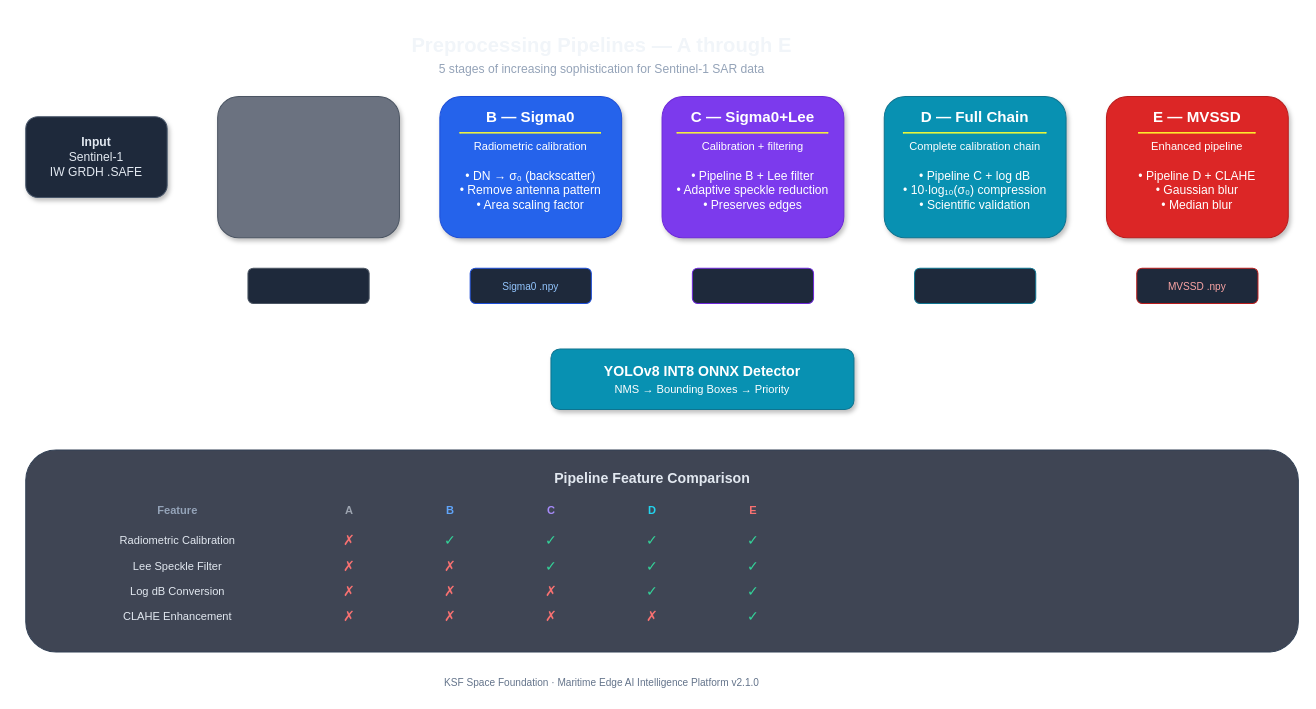
Some shapes in this 1316 by 709 pixel diagram are drawn without their labels. Here are the shapes that lost their labels. From the top down, the centre of each, then its label:
At point 309,168: "A — Raw Baseline pipeline • Normalize to [0,1] • No calibration • No filtering".
At point 308,285: "Raw .npy".
At point 752,285: "Lee .npy".
At point 975,285: "dB .npy".
